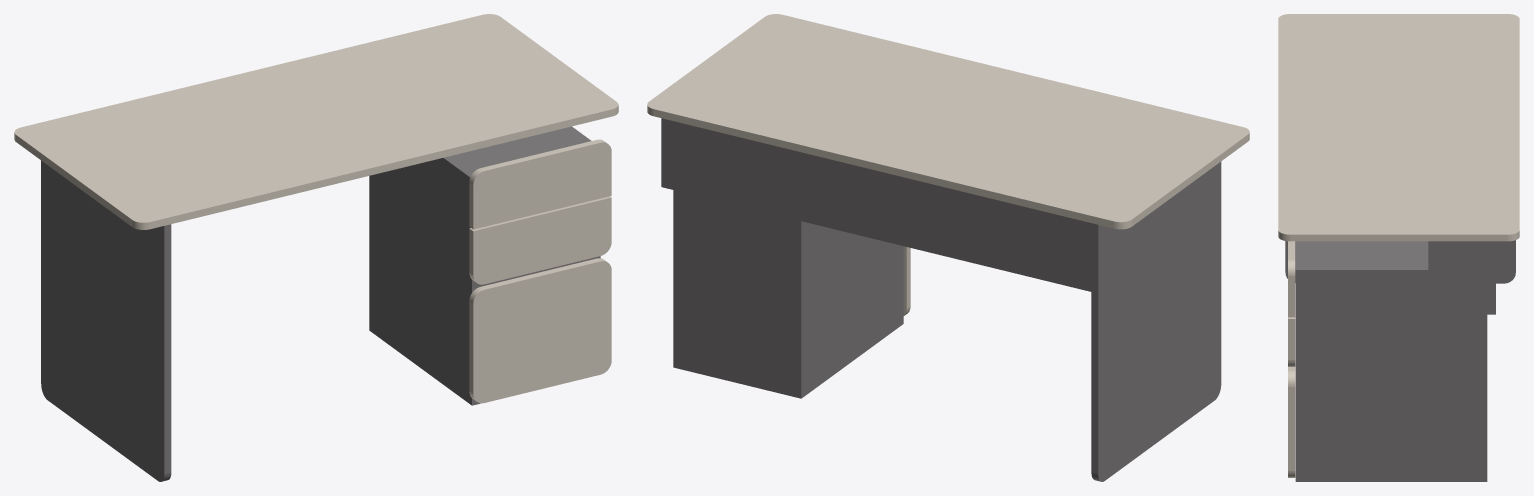
The model's file is 2pir_biurko.obj.
3 views of the same model, side by side, from view 1: azimuth 30°, elevation 25°; view 2: azimuth 150°, elevation 25°; view 3: azimuth 270°, elevation 25° (orthographic). The views are drawn at different scales.
Parts seen in each view (by area): view 1: Rectangle10, Rectangle12, Rectangle13, Box02; view 2: Rectangle10, Box02, Rectangle13, Box03; view 3: Rectangle10, Box02, Box03, Rectangle12, Rectangle13.
Boxes of the visible parts, <box> form: Rectangle10: <box>14,14,618,229</box>; Rectangle12: <box>469,139,611,403</box>; Rectangle13: <box>41,160,171,481</box>; Box02: <box>369,126,600,405</box>; Rectangle10: <box>647,14,1249,229</box>; Box02: <box>673,190,903,398</box>; Rectangle13: <box>1091,161,1221,481</box>; Box03: <box>661,118,1091,291</box>; Rectangle10: <box>1278,14,1519,241</box>; Box02: <box>1295,241,1487,481</box>; Box03: <box>1428,241,1495,314</box>; Rectangle12: <box>1288,241,1295,477</box>; Rectangle13: <box>1285,240,1515,283</box>.
Bounding box in the file's own units: 140 × 74.94 × 64.74.
